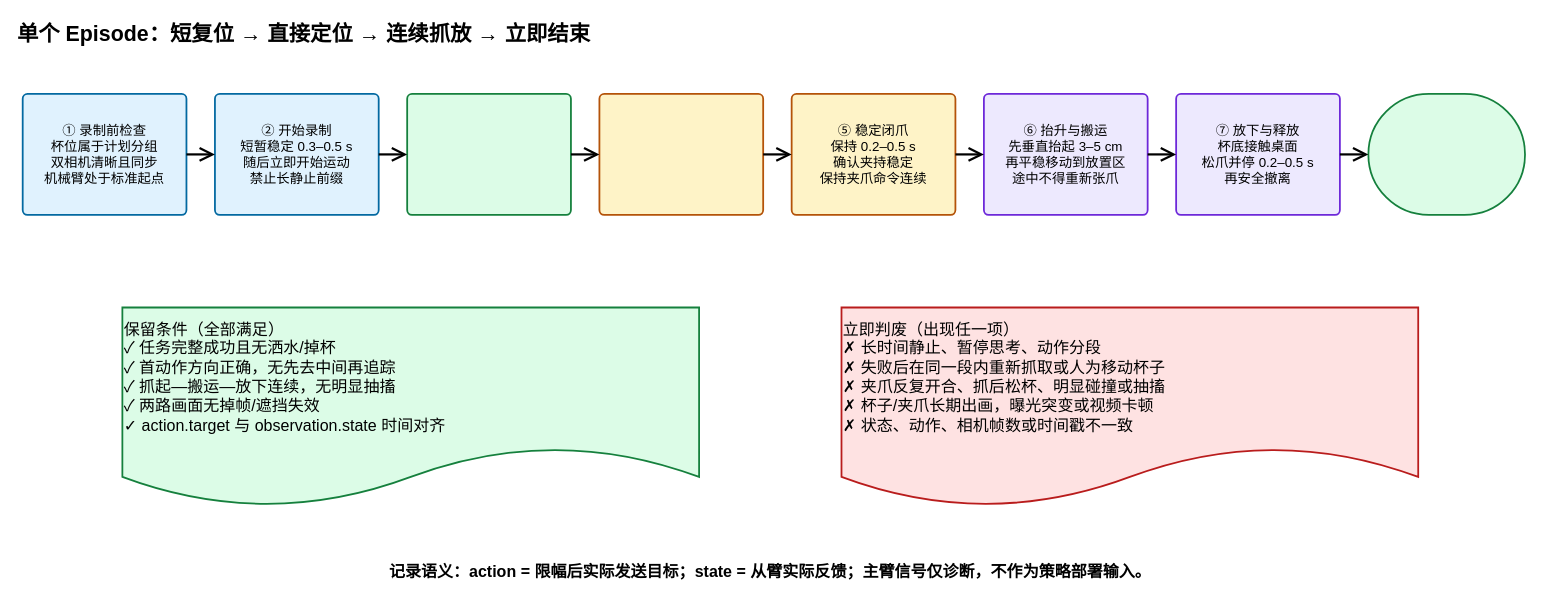
This 1541x607 diagram has some shape labels left out. The centre of each missing label's shape, as x and y in pixels:
③ 定位与接近 第一下就朝杯子方向 连续、缓慢、少修正 腕部画面保持杯子可见: (x=488, y=154)
④ 闭爪 对准后连续闭合 不反复开合 记录三路力反馈: (x=681, y=154)
⑧ 结束审核 成功后尽快停止 禁止末尾长静止 失败整段重录: (x=1446, y=154)
